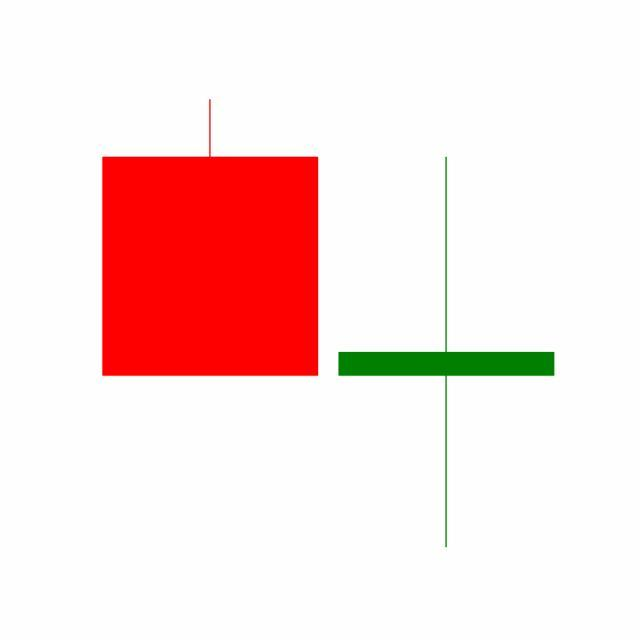Spinning Top: (328, 153, 566, 553)
